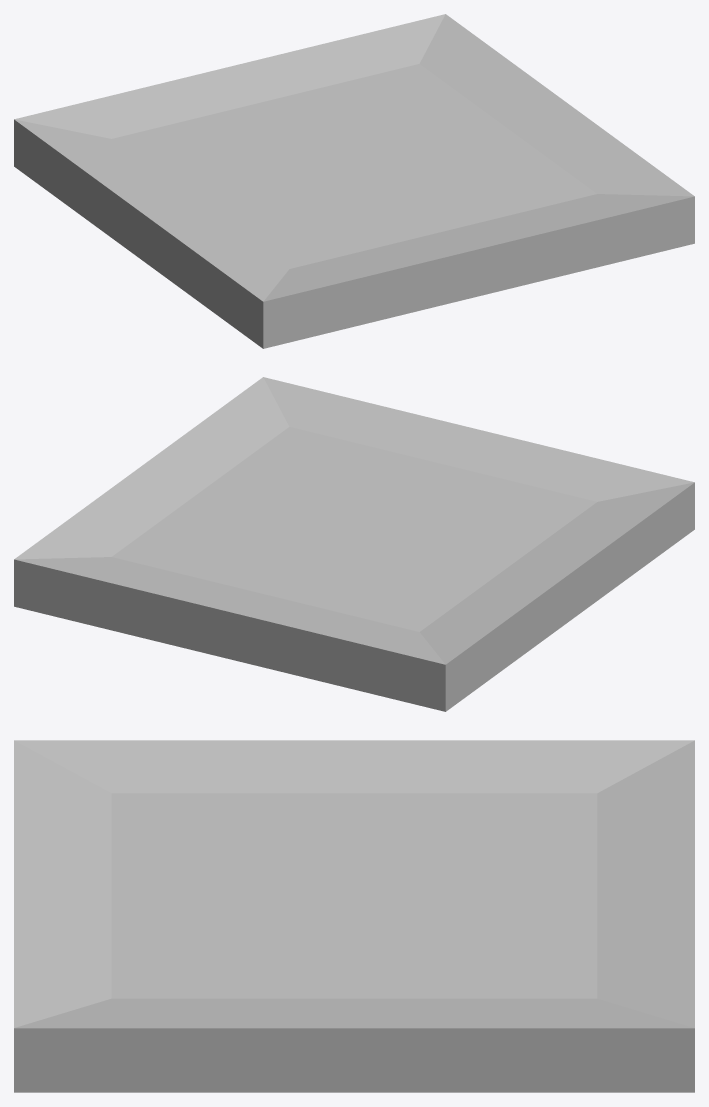
File: Itr_Chair1_Seat_06.FBX
3 renders of one model, top to bottom at view 1: azimuth 30°, elevation 25°; view 2: azimuth 150°, elevation 25°; view 3: azimuth 270°, elevation 25°, orthographic. The views are drawn at different scales.
Visible parts, largest first — view 1: Itr_Chair1_Seat_06; view 2: Itr_Chair1_Seat_06; view 3: Itr_Chair1_Seat_06.
Boxes of the visible parts, x1=… form: Itr_Chair1_Seat_06: x1=14, y1=14, x2=694, y2=348; Itr_Chair1_Seat_06: x1=14, y1=377, x2=694, y2=711; Itr_Chair1_Seat_06: x1=14, y1=740, x2=694, y2=1092.
Size of the model in its own units: 23.52 by 2.9 by 23.52.
